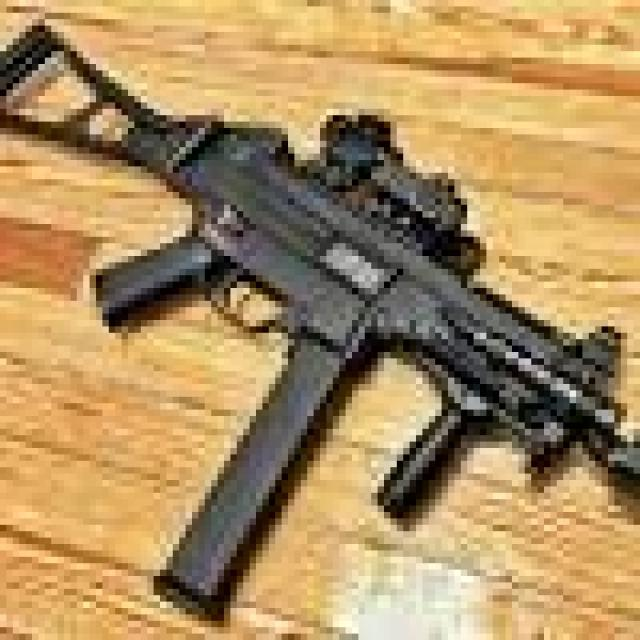Gun: (0, 9, 640, 604)
